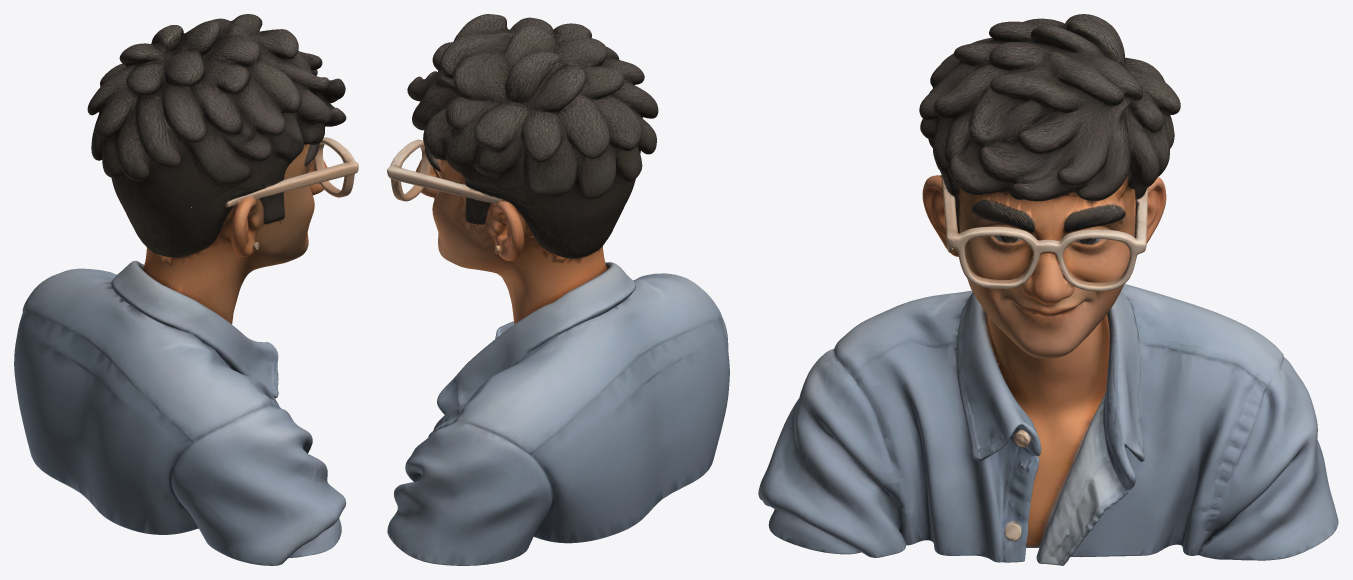
3 renders of one model, left to right at view 1: azimuth 30°, elevation 25°; view 2: azimuth 150°, elevation 25°; view 3: azimuth 270°, elevation 25°, orthographic. The views are drawn at different scales.
Visible parts, largest first — view 1: tripo_node_bd838b98-df5c-4ab3-b275-0e545b06cd2e; view 2: tripo_node_bd838b98-df5c-4ab3-b275-0e545b06cd2e; view 3: tripo_node_bd838b98-df5c-4ab3-b275-0e545b06cd2e.
Boxes of the visible parts, x1,y1,x2,y2 form: tripo_node_bd838b98-df5c-4ab3-b275-0e545b06cd2e: (14, 14, 358, 565); tripo_node_bd838b98-df5c-4ab3-b275-0e545b06cd2e: (387, 14, 729, 565); tripo_node_bd838b98-df5c-4ab3-b275-0e545b06cd2e: (758, 14, 1338, 565).
Bounding box in the file's own units: 0.582 × 0.9499 × 0.9803.
1 material, 1 textured.
